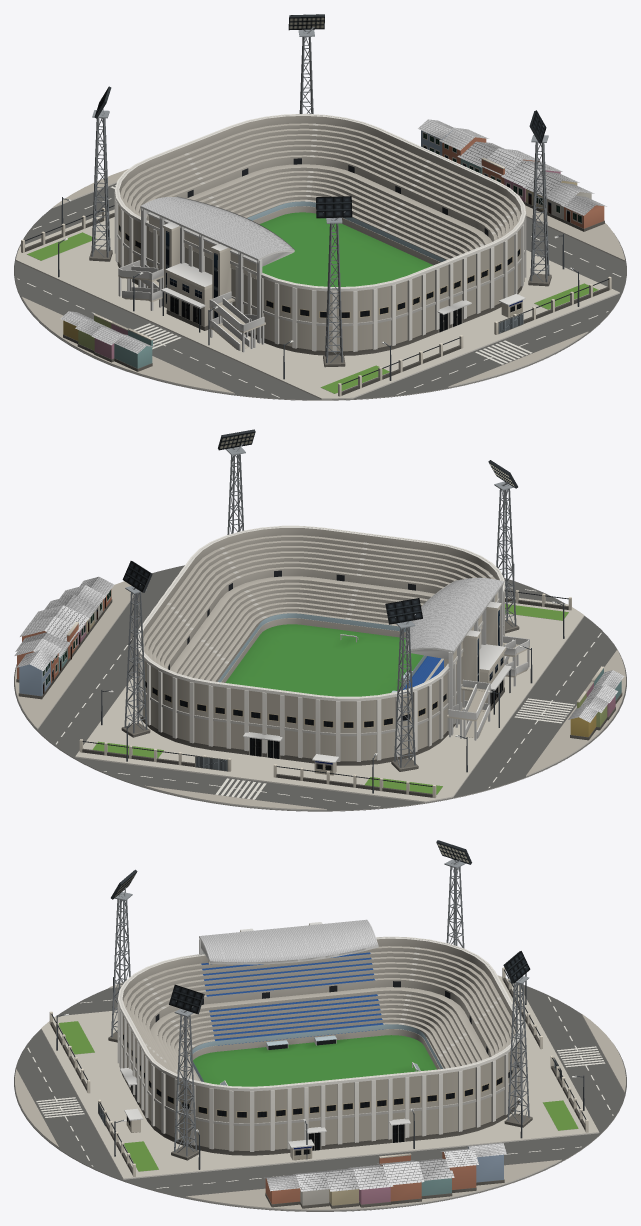
Rendered from estadioPv-pecas.glb.
The picture shows the model from 3 angles, top to bottom: view 1: azimuth 30°, elevation 25°; view 2: azimuth 150°, elevation 25°; view 3: azimuth 270°, elevation 25°; orthographic projection.
Parts seen in each view (by area): view 1: Arquibancadas, Chao_Pisos, Fachada_Externa, Chao_Base, Casario, Campo, Torres_Iluminacao, Portal_Rampas, Tribuna_Coberta, Gradil_Lote, Postes; view 2: Arquibancadas, Chao_Pisos, Chao_Base, Fachada_Externa, Campo, Torres_Iluminacao, Casario, Tribuna_Coberta, Portal_Rampas, Gradil_Lote, Postes; view 3: Arquibancadas, Fachada_Externa, Chao_Pisos, Chao_Base, Campo, Casario, Torres_Iluminacao, Tribuna_Coberta, Gradil_Lote, Bilheterias, Postes.
Boxes of the visible parts, x1,y1,x2,y2 form: Arquibancadas: (116,114,524,287); Chao_Pisos: (16,169,625,399); Fachada_Externa: (114,113,526,355); Chao_Base: (14,183,626,400); Casario: (60,119,606,371); Campo: (247,201,446,286); Torres_Iluminacao: (89,14,551,367); Portal_Rampas: (118,222,265,352); Tribuna_Coberta: (140,196,294,343); Gradil_Lote: (21,205,611,396); Postes: (58,197,579,380); Arquibancadas: (138,526,502,697); Chao_Pisos: (15,568,625,810); Chao_Base: (14,565,626,811); Fachada_Externa: (136,525,504,765); Campo: (217,613,426,696); Torres_Iluminacao: (121,429,519,771); Casario: (14,576,624,740); Tribuna_Coberta: (405,577,503,735); Portal_Rampas: (446,602,529,740); Gradil_Lote: (79,590,571,797); Postes: (101,564,564,793); Arquibancadas: (120,937,519,1087); Fachada_Externa: (117,936,523,1155); Chao_Pisos: (15,975,625,1210); Chao_Base: (14,984,626,1211); Campo: (190,1024,442,1086); Casario: (203,953,506,1208); Torres_Iluminacao: (108,840,532,1160); Tribuna_Coberta: (199,919,378,964); Gradil_Lote: (49,967,588,1176); Bilheterias: (124,1108,314,1160); Postes: (56,973,584,1169).
Size of the model in its own units: 66.77 by 19.9 by 66.77.
24 materials, 3 textured.
